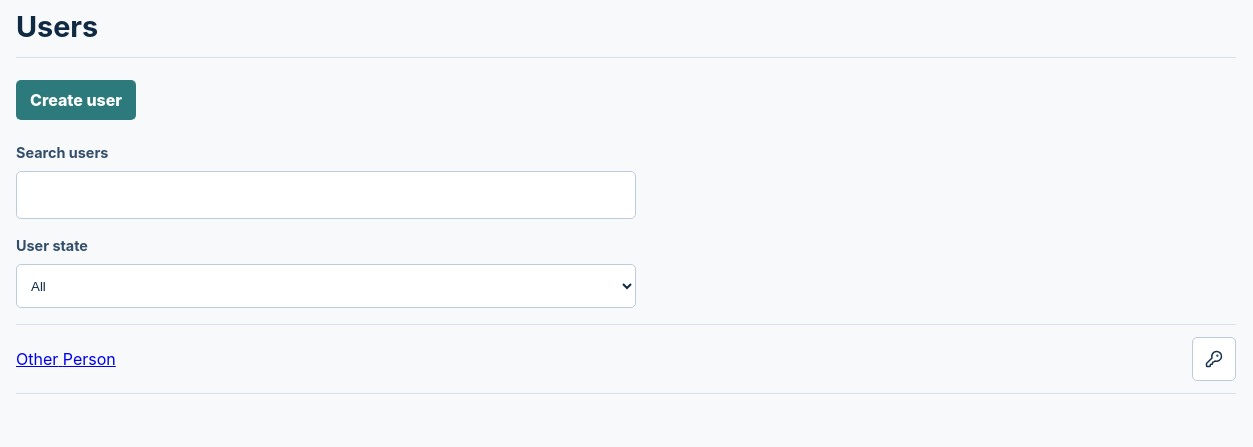
it: shows API errors for Reset password for Other Person and enables retry
The width and height of the screenshot is (1253, 447).
Click the button named "Reset password for Other Person": click(1214, 359) [1192,337,1236,381]
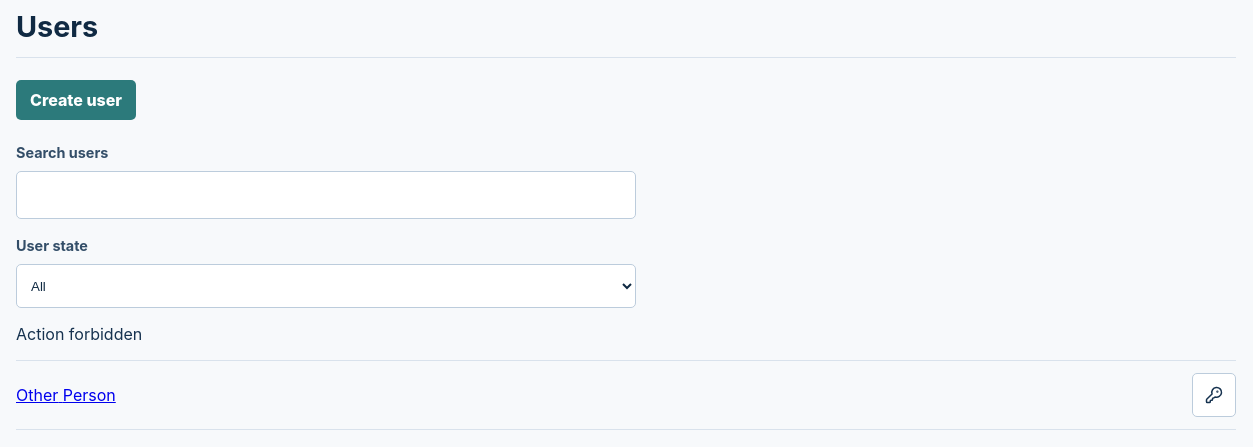
expect the button named "Reset password for Other Person" is enabled: met, box [1192,373,1236,417]
expect the message reads "Action forbidden": met, box [16,324,142,344]
